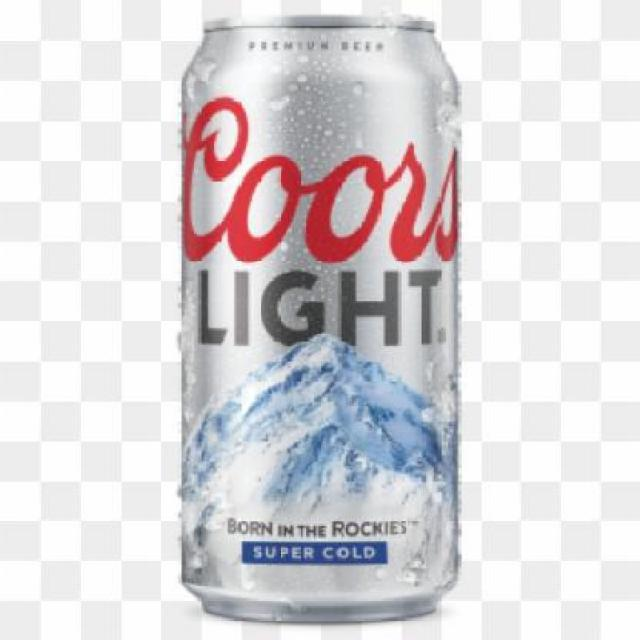can: (170, 10, 470, 628)
